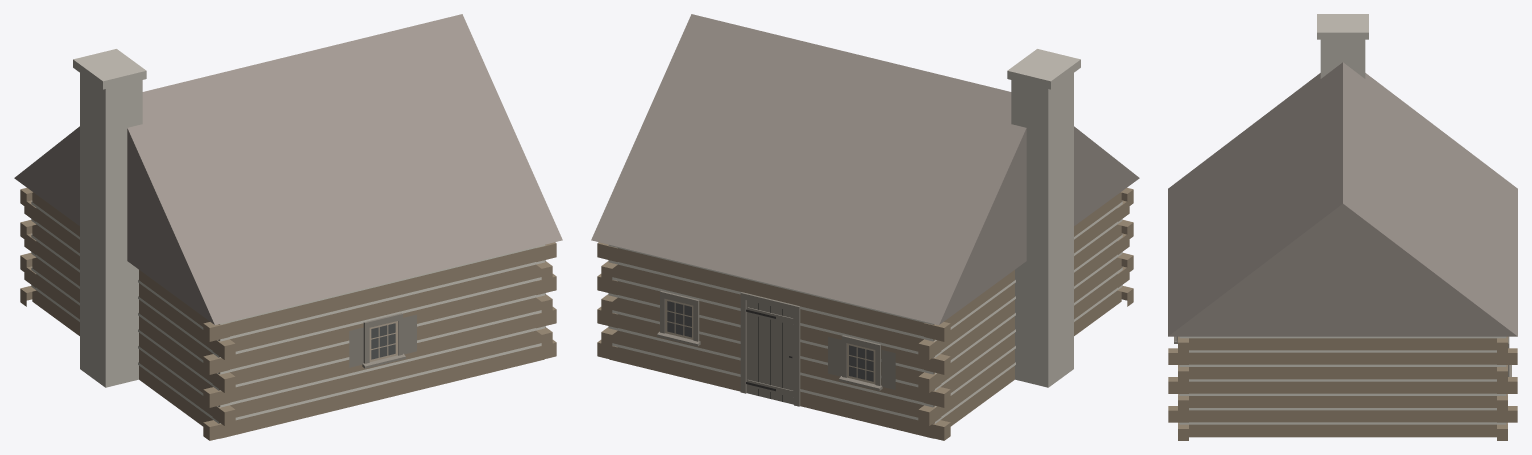
File: walker_meeting_house__log_1831.glb
3 renders of one model, left to right at view 1: azimuth 30°, elevation 25°; view 2: azimuth 150°, elevation 25°; view 3: azimuth 270°, elevation 25°, orthographic. The views are drawn at different scales.
Visible parts, largest first — view 1: walker_meeting_house__log_1831; view 2: walker_meeting_house__log_1831; view 3: walker_meeting_house__log_1831.
Boxes of the visible parts, box(x1,y1,x2,y2) form: walker_meeting_house__log_1831: box(14, 14, 562, 440); walker_meeting_house__log_1831: box(591, 14, 1139, 440); walker_meeting_house__log_1831: box(1168, 14, 1517, 440).
Size of the model in its own units: 8.07 by 6.37 by 7.5.
